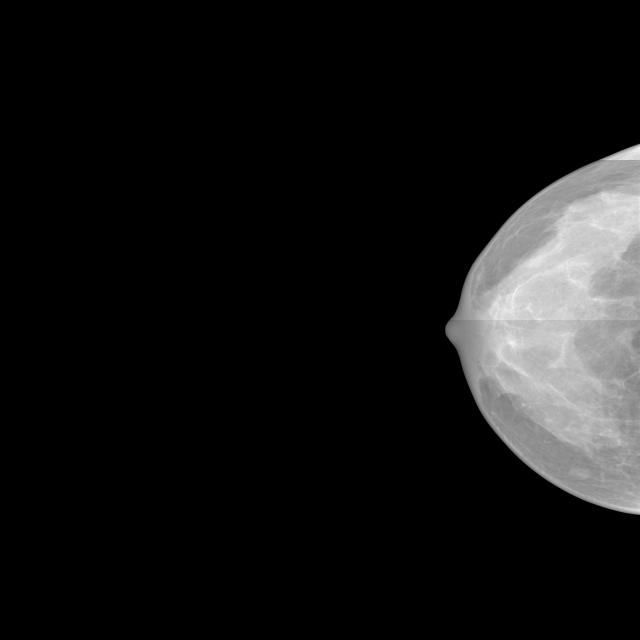Mass_1: (560, 459, 600, 487)
